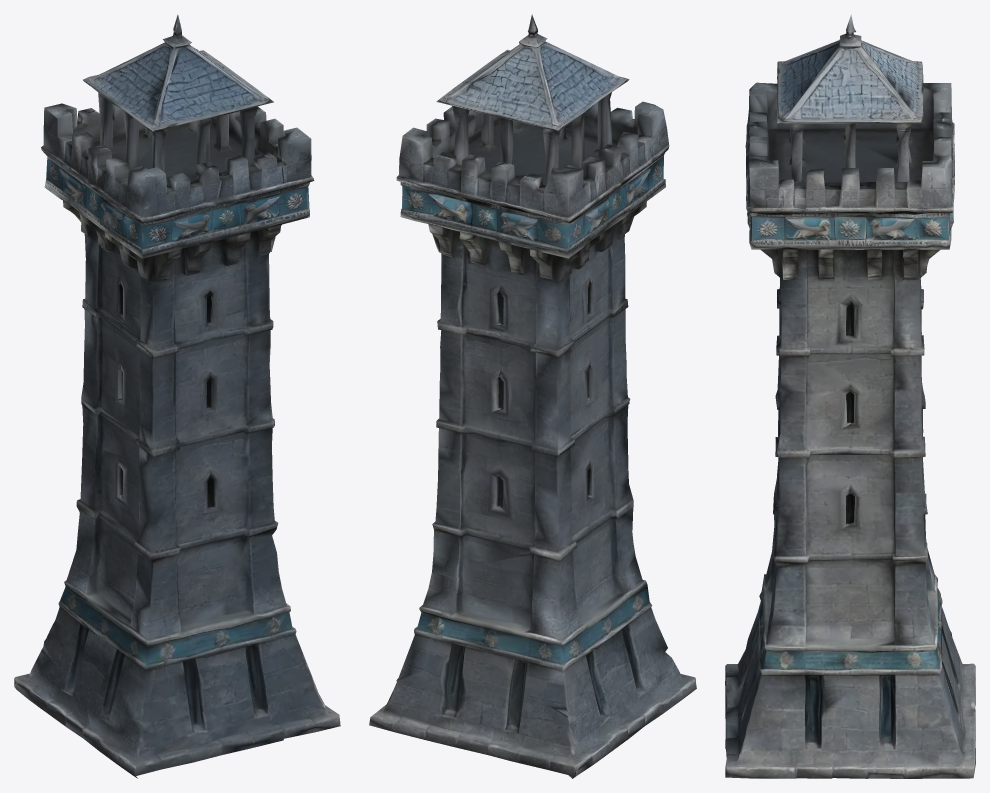
File: castle_tower_tall_stone.glb
The picture shows the model from 3 angles, left to right: view 1: azimuth 30°, elevation 25°; view 2: azimuth 150°, elevation 25°; view 3: azimuth 270°, elevation 25°; orthographic projection. The views are drawn at different scales.
Parts seen in each view (by area): view 1: tripo_node_b36ee915-8de2-4c16-8ac5-0f017f3b60c9; view 2: tripo_node_b36ee915-8de2-4c16-8ac5-0f017f3b60c9; view 3: tripo_node_b36ee915-8de2-4c16-8ac5-0f017f3b60c9.
Boxes of the visible parts, x1,y1,x2,y2 form: tripo_node_b36ee915-8de2-4c16-8ac5-0f017f3b60c9: (14, 14, 340, 778); tripo_node_b36ee915-8de2-4c16-8ac5-0f017f3b60c9: (369, 14, 696, 778); tripo_node_b36ee915-8de2-4c16-8ac5-0f017f3b60c9: (725, 14, 975, 778).
Size of the model in its own units: 0.3081 by 0.9826 by 0.3117.
Materials: 1 (1 with a texture image).
